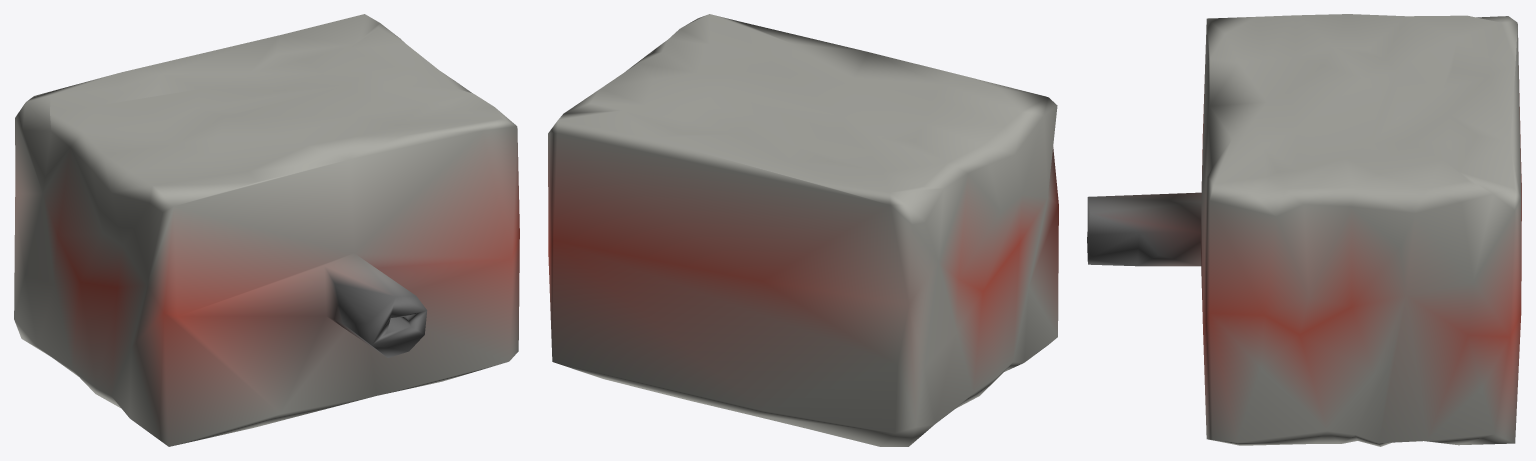
Rendered from sample-hull-lod2.glb.
3 renders of one model, left to right at view 1: azimuth 30°, elevation 25°; view 2: azimuth 150°, elevation 25°; view 3: azimuth 270°, elevation 25°, orthographic. The views are drawn at different scales.
Parts seen in each view (by area): view 1: Part_Torso; view 2: Part_Torso; view 3: Part_Torso.
Part boxes in pixels (x1,y1,x2,y2): Part_Torso: [14, 14, 519, 446]; Part_Torso: [548, 14, 1058, 446]; Part_Torso: [1087, 14, 1521, 446].
Bounding box in the file's own units: 2.4 × 1.56 × 2.35.
